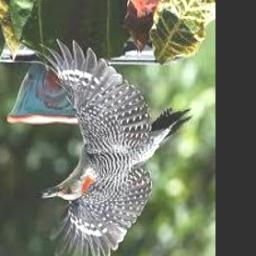Woodpecker: (22, 39, 192, 256)
